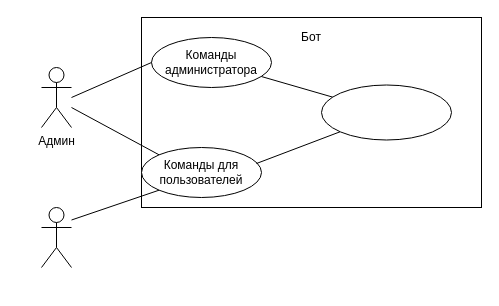
The diagram is 499 pixels wide and 306 high, and some of its shapes have lost their labels. The shapes that lost their labels are listed below. From the top down, each one's centre as x and y in pixels, then its label:
[386,112]: Возврат результата команды
[56,237]: Пользователь
